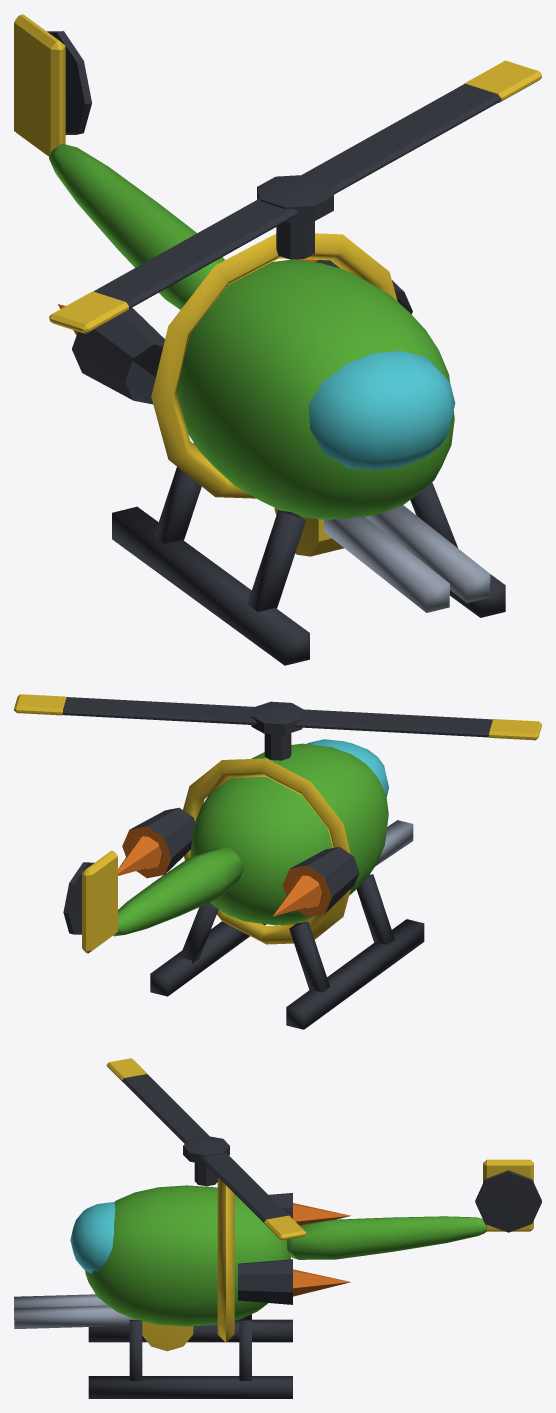
3 renders of one model, top to bottom at view 1: azimuth 30°, elevation 25°; view 2: azimuth 150°, elevation 25°; view 3: azimuth 270°, elevation 25°, orthographic. The views are drawn at different scales.
Parts seen in each view (by area): view 1: heli_0_base, heli_1_torreta; view 2: heli_0_base, heli_1_torreta; view 3: heli_0_base, heli_1_torreta.
Part boxes in pixels (<box>): heli_0_base: <box>14,14,505,665</box>; heli_1_torreta: <box>49,60,541,333</box>; heli_0_base: <box>63,739,424,1029</box>; heli_1_torreta: <box>14,694,541,760</box>; heli_0_base: <box>14,1159,541,1398</box>; heli_1_torreta: <box>106,1058,306,1240</box>.
Bounding box in the file's own units: 1.08 × 0.632 × 1.35.
